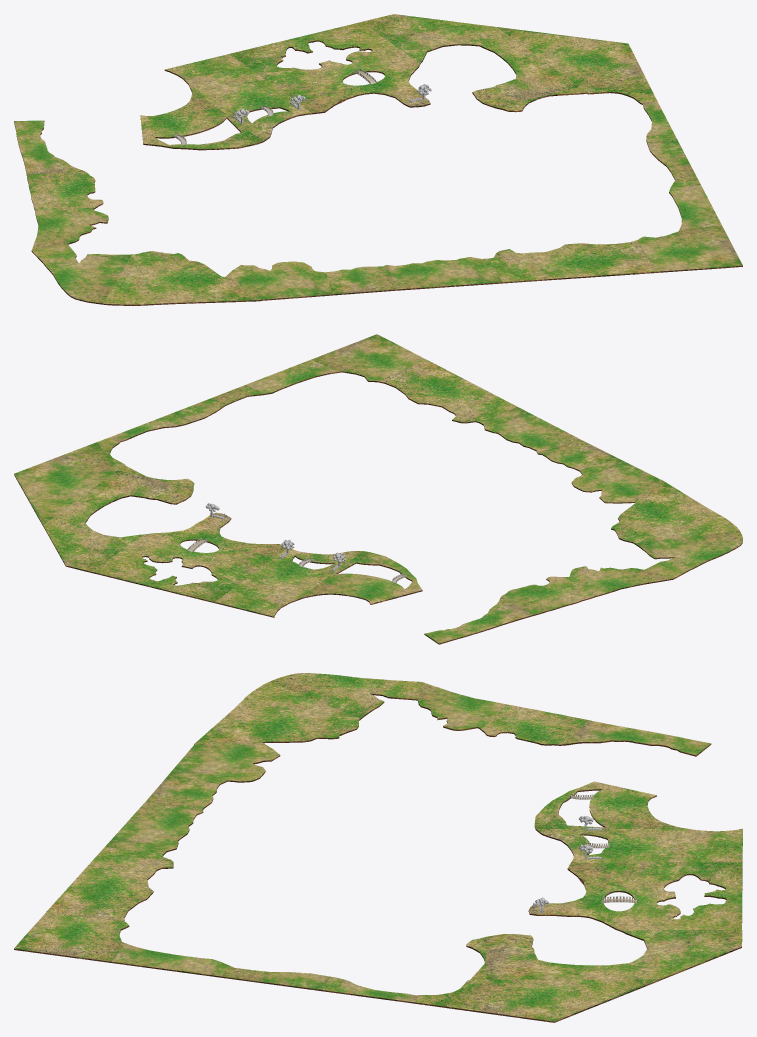
The model's file is parque(terreno_puentes_bancas).fbx.
3 renders of one model, top to bottom at view 1: azimuth 30°, elevation 25°; view 2: azimuth 150°, elevation 25°; view 3: azimuth 270°, elevation 25°, orthographic. The views are drawn at different scales.
Visible parts, largest first — view 1: Plane.004; view 2: Plane.004; view 3: Plane.004.
Boxes of the visible parts, x1,y1,x2,y2 form: Plane.004: (14,14,742,305); Plane.004: (14,334,742,644); Plane.004: (14,673,742,1022).
Size of the model in its own units: 52002 by 1111 by 45962.
